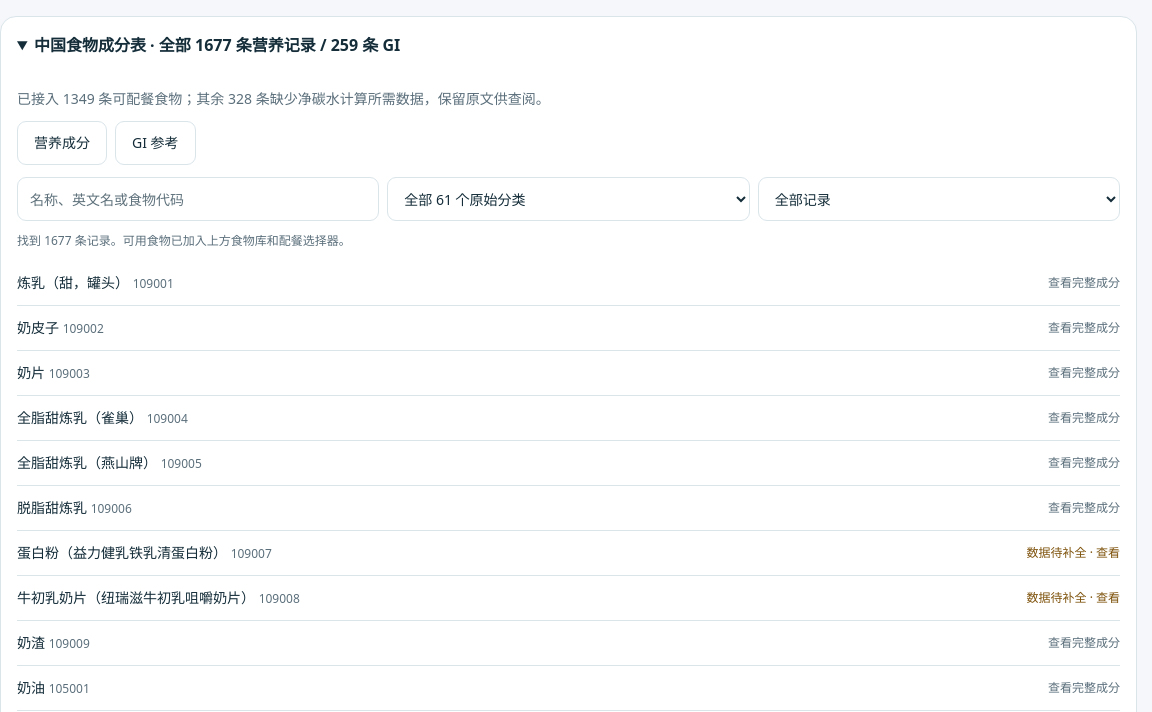
Test case: large food catalog UI › retains incomplete records in the reference browser and exposes GI search
The width and height of the screenshot is (1152, 712).
Step 1. Select "数据待补全" in the dropdown named "成分表数据完整性" → (939, 199), box x1=758 y1=177 x2=1120 y2=221
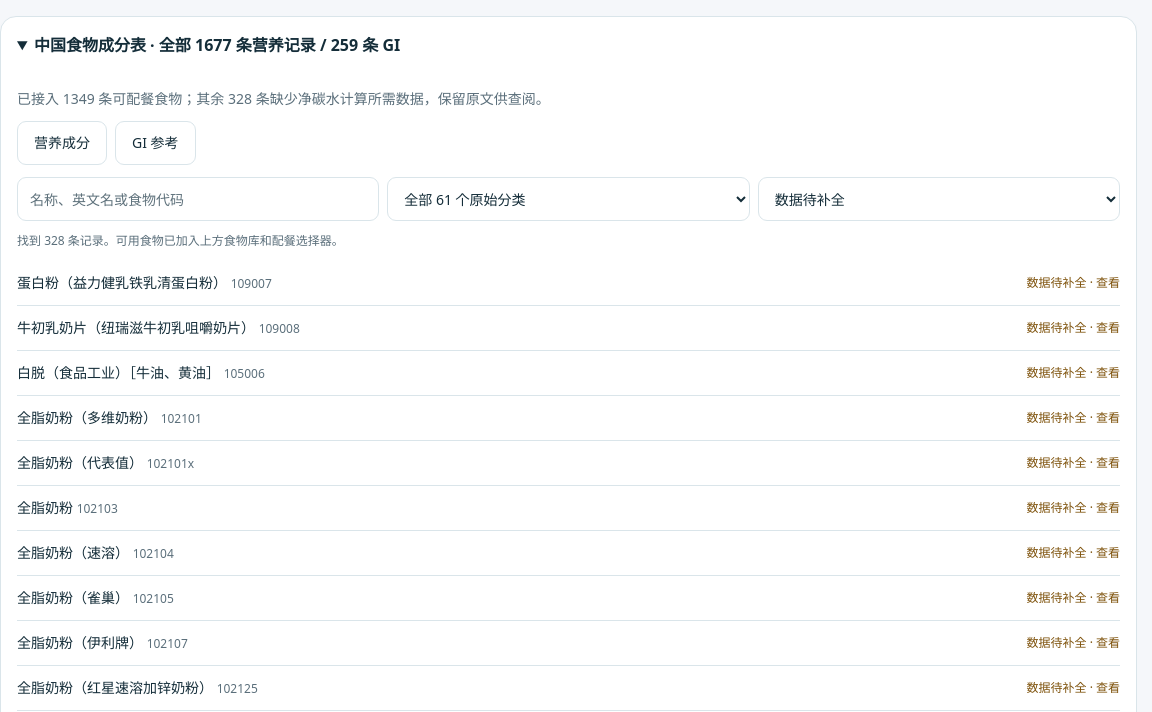
Check: the text "找到 328 条记录。可用食物已加入上方食物库和配餐选择器。" is shown, box x1=17 y1=232 x2=344 y2=249
Step 2. Type "219037" into the field named "搜索成分表" → (198, 199), box x1=17 y1=177 x2=379 y2=221
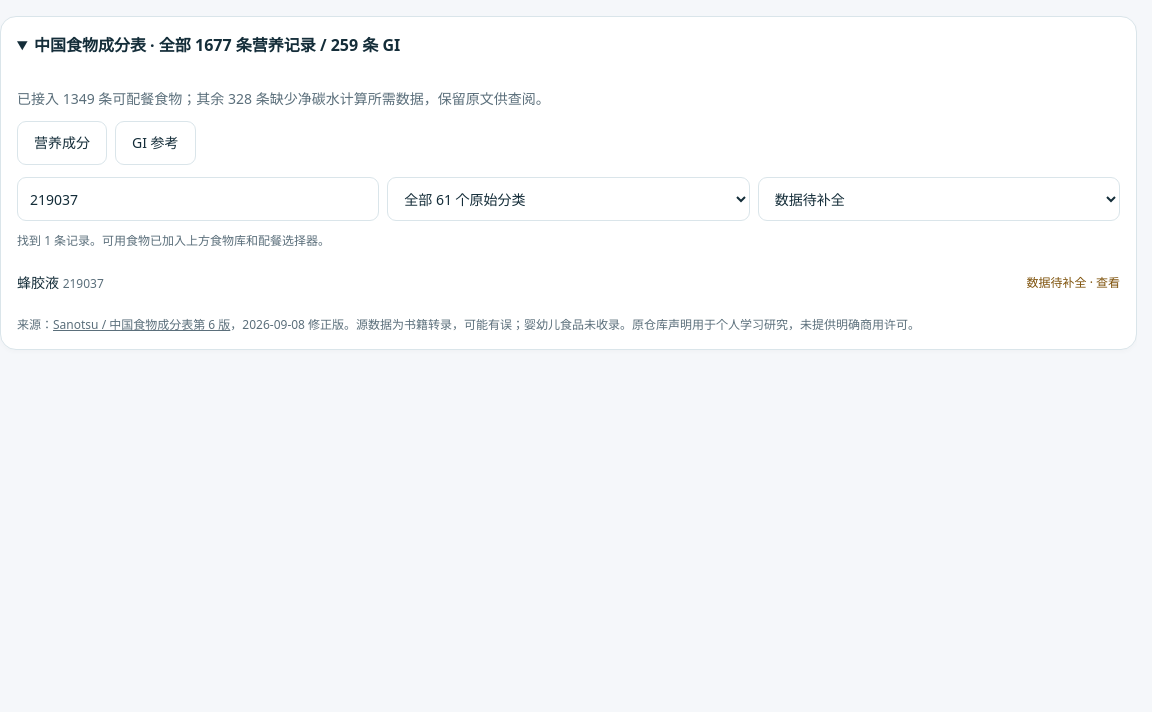
Step 3. Click the button "蜂胶液 219037 数据待补全 · 查看" → (38, 282), box x1=17 y1=261 x2=1120 y2=305
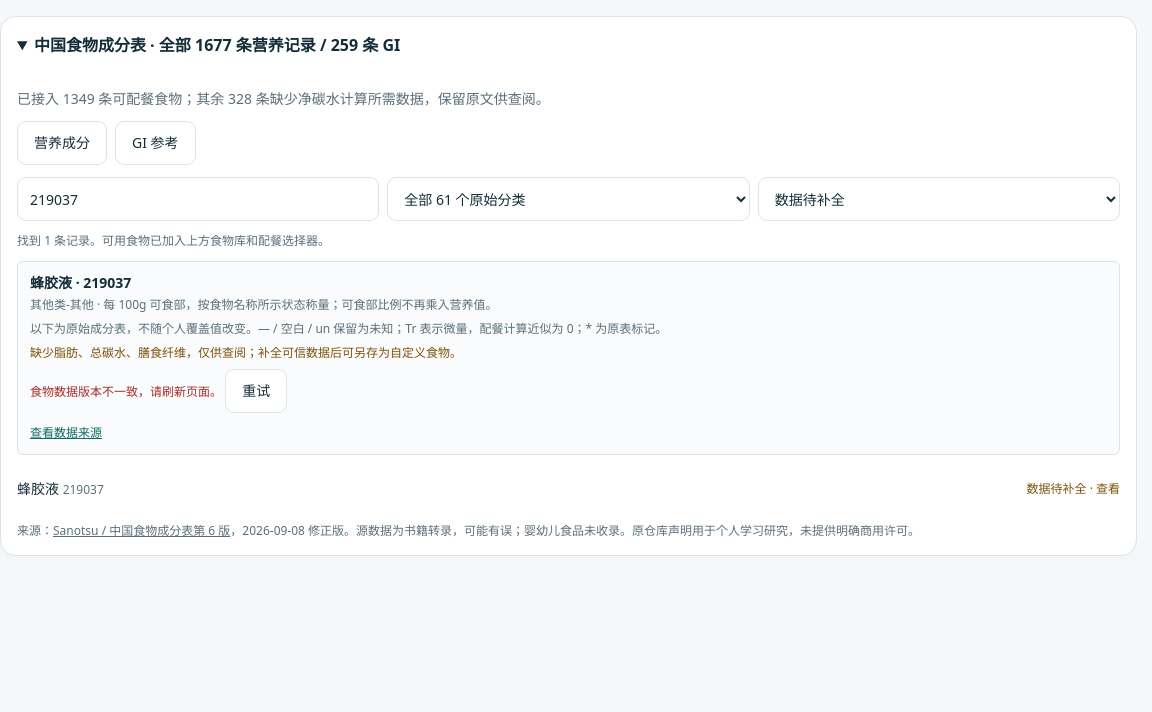
Check: the text "仅供查阅；补全可信数据" is shown, box x1=30 y1=344 x2=462 y2=361
Check: the message "食物数据版本不一致，请刷新页面。 重试" is shown, box x1=30 y1=369 x2=287 y2=413
Step 4. Click the button "GI 参考" → (155, 143), box x1=115 y1=121 x2=196 y2=165
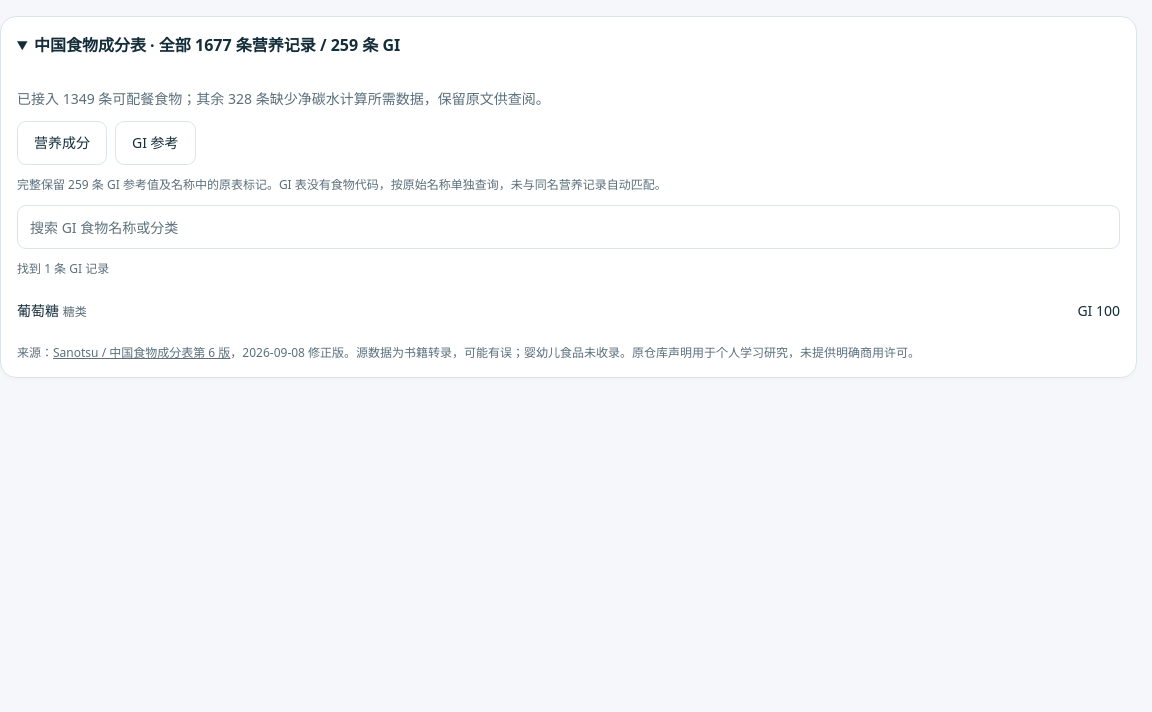
Check: the text "GI 100" is shown, box x1=1077 y1=301 x2=1120 y2=321
